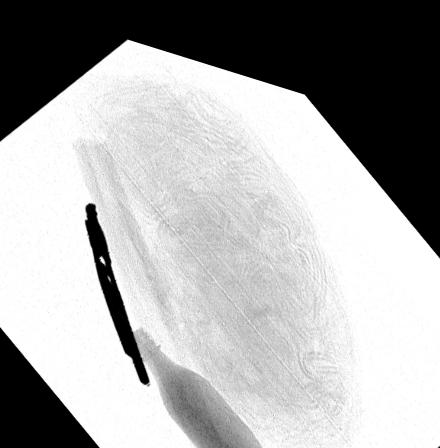Pliers: (83, 194, 150, 375)
